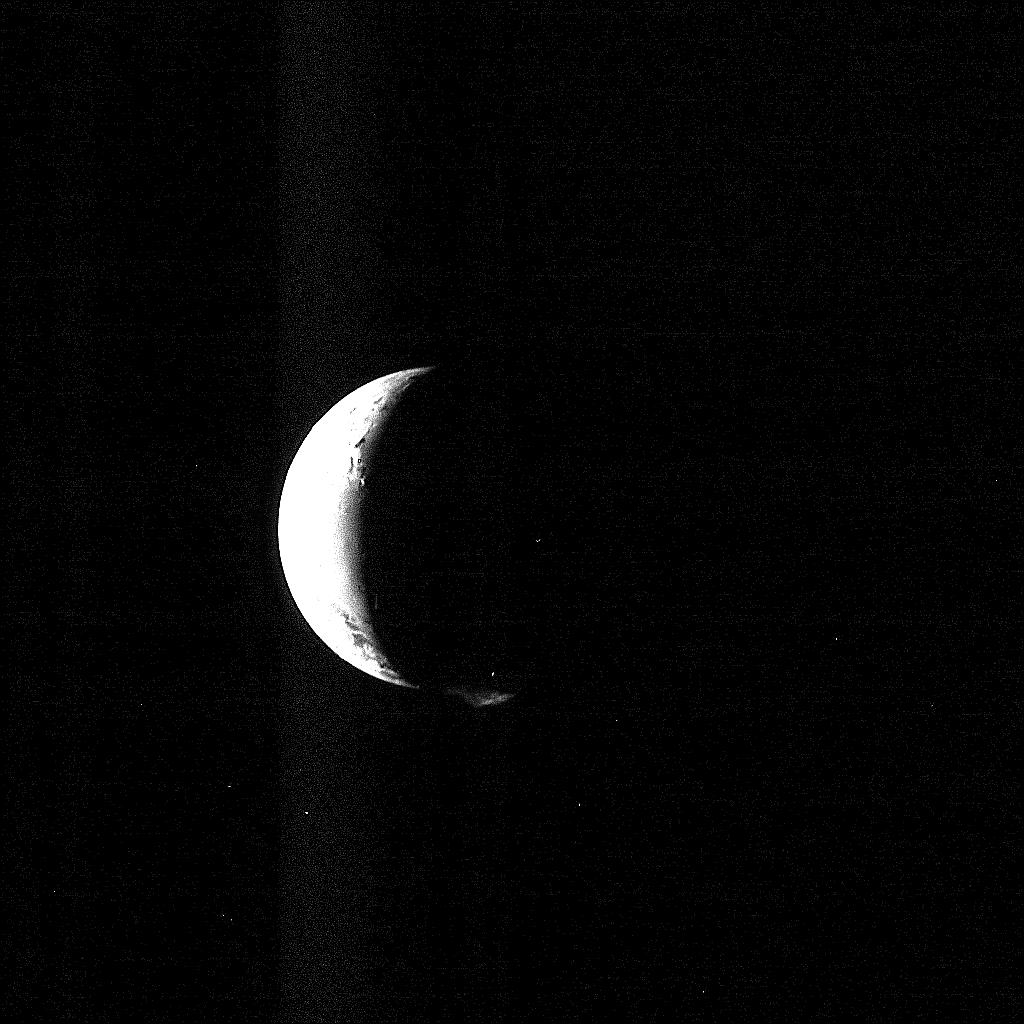plumes: (454, 692, 511, 705)
